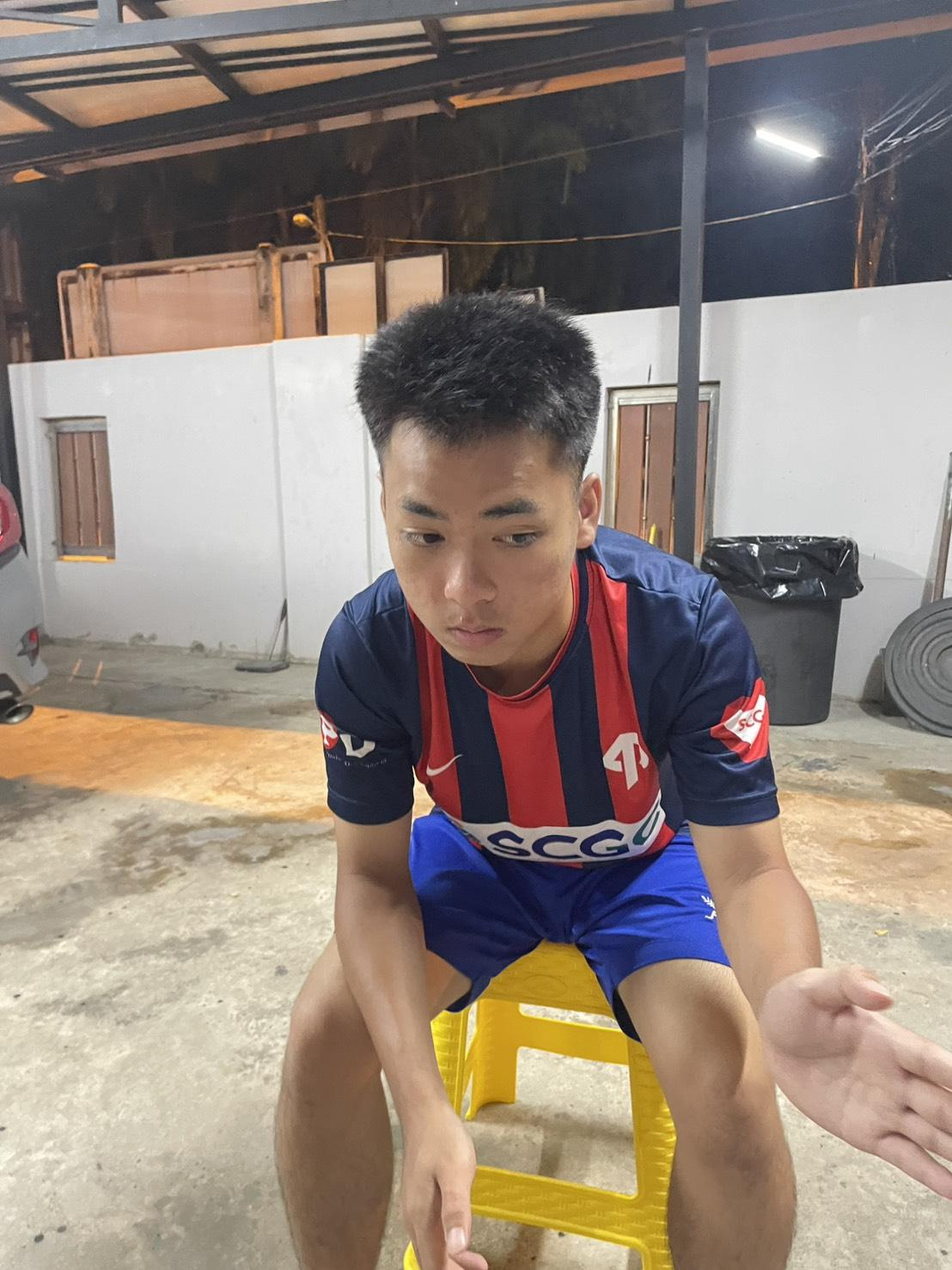BadPosture: (315, 295, 777, 868)
